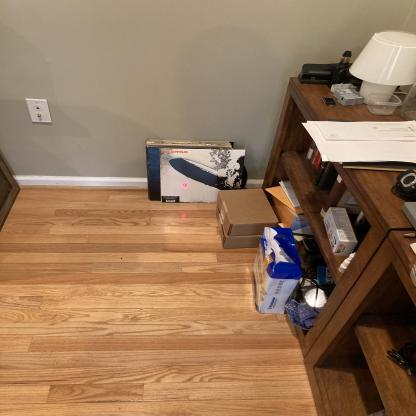target: (179, 179, 189, 191)
